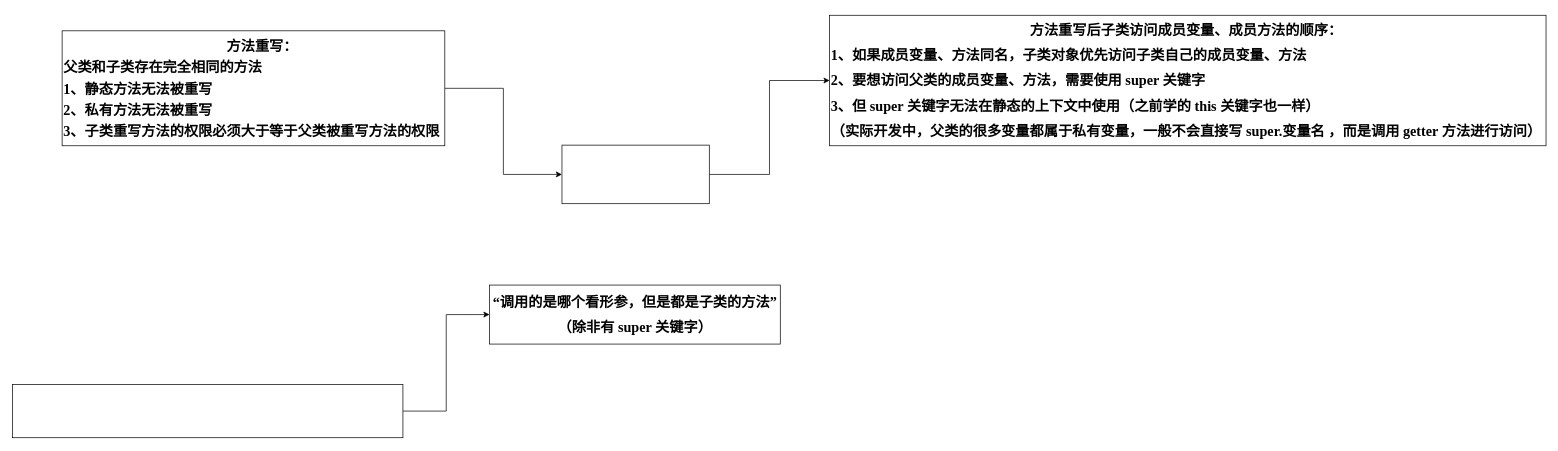
The diagram is 1558 pixels wide and 451 high, and some of its shapes have lost their labels. Each missing label, with the box of its shape:
“就近原则” （除非有 super 关键字）: (561, 144, 709, 204)
方法重载： 父类和子类的方法同名，但形参的类型、个数、名字可能不同: (12, 384, 403, 438)
